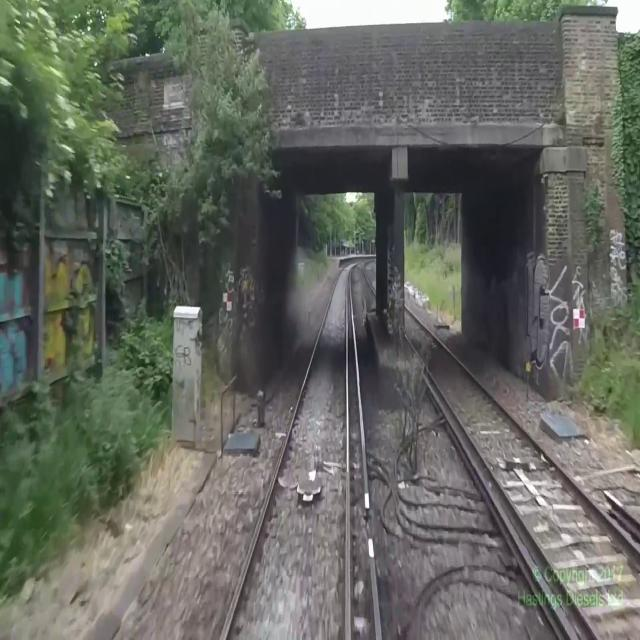rail-track: (428, 338, 640, 639), (224, 261, 356, 639), (428, 373, 595, 639)
